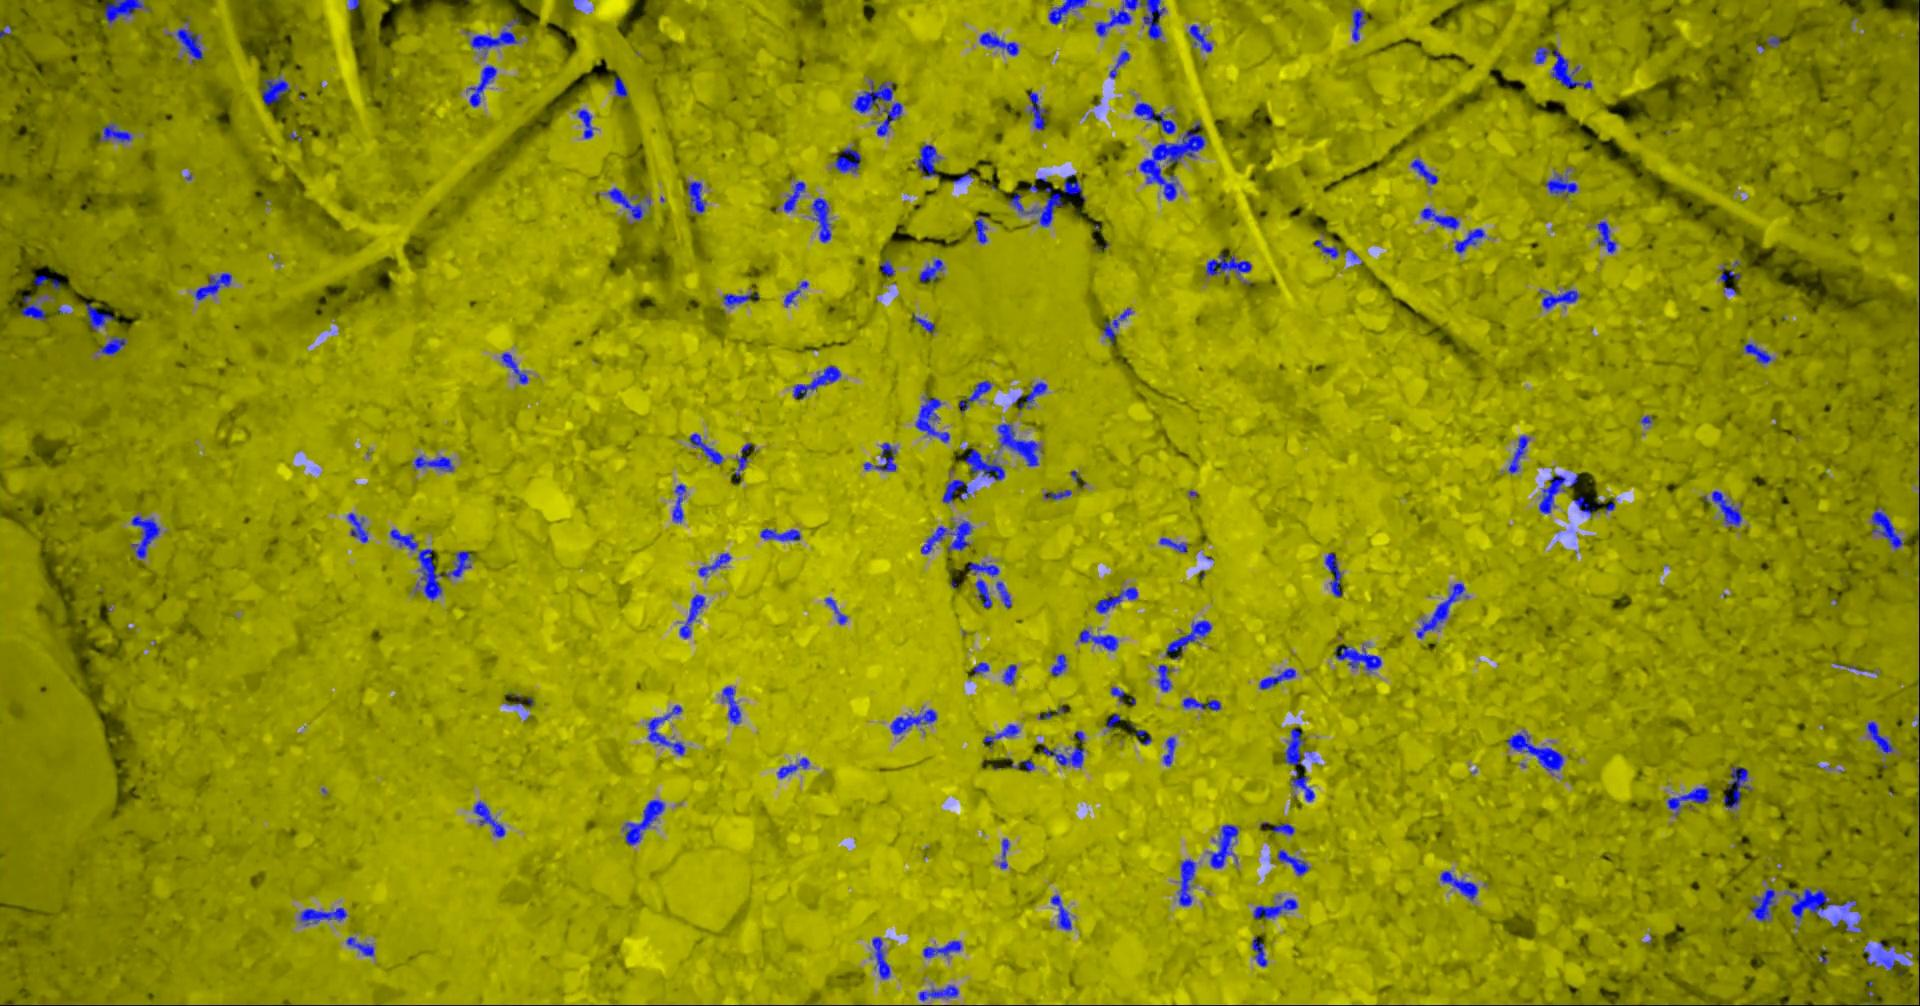ant: (417, 547, 471, 601), (1095, 0, 1164, 39), (1416, 583, 1464, 638), (1506, 729, 1563, 771), (1785, 888, 1857, 921), (1535, 46, 1591, 88), (1010, 185, 1062, 226), (622, 799, 664, 845), (648, 704, 684, 754), (997, 423, 1039, 466), (1164, 620, 1211, 658), (919, 520, 971, 554), (792, 365, 841, 398), (916, 398, 949, 442), (1133, 102, 1175, 133), (1870, 508, 1903, 547), (1863, 941, 1907, 970), (964, 448, 1004, 480), (1209, 824, 1238, 868), (1335, 644, 1382, 671), (853, 80, 893, 112), (1666, 788, 1710, 815), (467, 65, 497, 107), (1205, 253, 1251, 279), (131, 514, 159, 558), (1723, 765, 1751, 808), (470, 29, 517, 55), (1095, 586, 1137, 614), (606, 187, 643, 218), (890, 709, 936, 734), (1439, 870, 1477, 901), (472, 801, 504, 837), (1710, 490, 1741, 527), (1538, 474, 1564, 513), (957, 380, 990, 412), (679, 594, 703, 638), (1102, 307, 1131, 343), (193, 272, 231, 298), (690, 433, 723, 464), (175, 28, 203, 64), (1039, 746, 1083, 767), (1253, 898, 1297, 920), (103, 0, 143, 23), (863, 442, 895, 471), (1048, 0, 1086, 24), (979, 32, 1018, 55), (811, 197, 830, 243), (1420, 207, 1459, 229), (1078, 629, 1117, 650), (1283, 727, 1304, 766), (1015, 381, 1046, 408), (1865, 721, 1892, 753), (876, 102, 902, 135), (298, 907, 345, 925), (1277, 848, 1308, 875), (502, 352, 527, 384), (1290, 768, 1314, 801), (982, 724, 1018, 746), (1751, 887, 1774, 921), (260, 77, 290, 104), (84, 304, 113, 330), (1178, 859, 1195, 906), (1454, 227, 1484, 253), (1538, 290, 1578, 309), (1509, 434, 1529, 473), (917, 144, 940, 177), (1258, 668, 1295, 688), (1410, 158, 1437, 184), (871, 936, 889, 978), (1029, 91, 1048, 130), (698, 553, 730, 575), (1324, 553, 1341, 596), (776, 757, 809, 779), (734, 442, 754, 476), (1050, 894, 1070, 929), (723, 686, 740, 724), (413, 455, 453, 471), (1545, 174, 1576, 196), (1718, 263, 1740, 293), (922, 940, 961, 956), (1596, 221, 1617, 253), (783, 279, 808, 306), (942, 479, 969, 503), (98, 123, 131, 142), (783, 180, 804, 211), (347, 512, 367, 542), (834, 147, 860, 171), (20, 295, 44, 320), (1189, 24, 1211, 51), (686, 180, 705, 212), (918, 984, 957, 1000), (1062, 174, 1084, 199), (918, 259, 943, 282), (824, 597, 847, 622), (1109, 50, 1129, 77), (1743, 343, 1771, 363), (389, 528, 417, 549), (345, 936, 373, 955), (577, 109, 594, 138), (672, 483, 684, 522), (723, 292, 758, 306), (1572, 495, 1596, 516), (99, 335, 124, 354), (1182, 697, 1220, 710), (1251, 936, 1266, 967), (910, 312, 935, 332), (1313, 239, 1338, 257), (759, 528, 799, 540), (975, 579, 990, 608), (1351, 9, 1365, 41), (968, 561, 998, 575), (1832, 918, 1862, 932), (996, 580, 1011, 607), (1156, 664, 1171, 691), (973, 215, 987, 243), (1159, 537, 1187, 551), (1162, 735, 1175, 765), (1051, 654, 1065, 676), (613, 76, 627, 97), (1043, 489, 1070, 499), (1272, 822, 1294, 835), (1002, 664, 1016, 683), (999, 838, 1008, 868), (879, 259, 894, 276), (1106, 713, 1121, 729), (1135, 729, 1150, 744), (1110, 687, 1124, 702), (971, 662, 988, 674), (33, 274, 47, 285)
